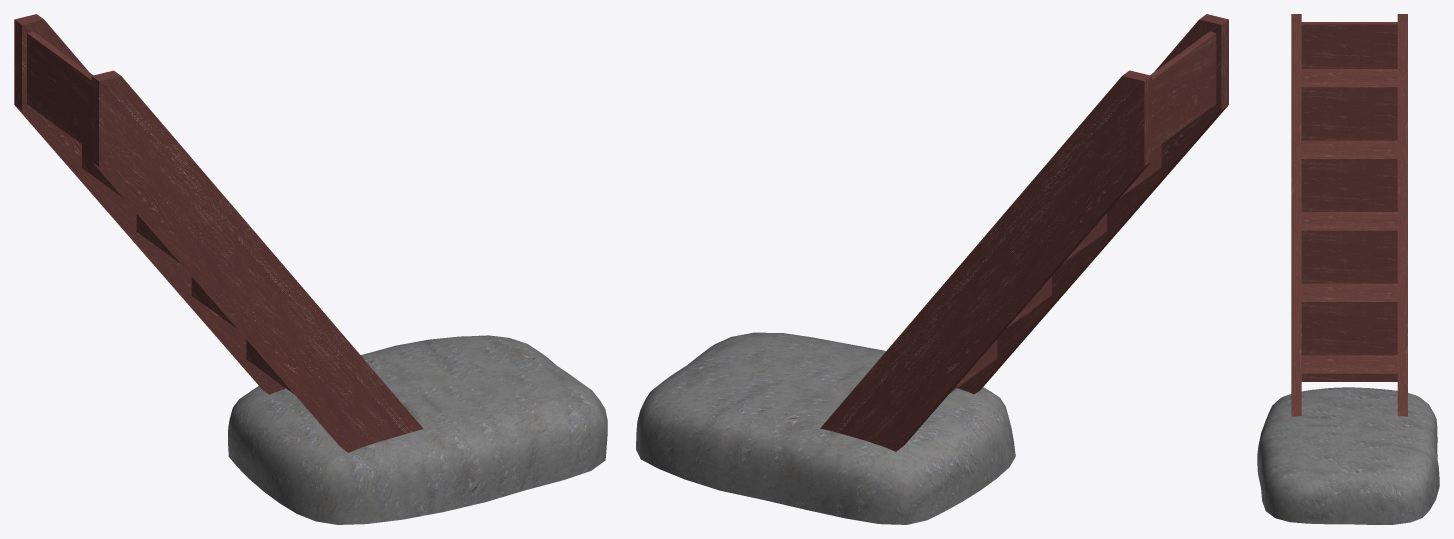
The model's file is SM_Song_Jong_Stair.fbx.
3 views of the same model, side by side, from view 1: azimuth 30°, elevation 25°; view 2: azimuth 150°, elevation 25°; view 3: azimuth 270°, elevation 25° (orthographic). The views are drawn at different scales.
Parts seen in each view (by area): view 1: SM_Song_Jong_Stair; view 2: SM_Song_Jong_Stair; view 3: SM_Song_Jong_Stair.
Boxes of the visible parts, x1,y1,x2,y2 form: SM_Song_Jong_Stair: (14, 14, 607, 524); SM_Song_Jong_Stair: (636, 14, 1228, 524); SM_Song_Jong_Stair: (1257, 14, 1439, 524).
Size of the model in its own units: 197 by 180 by 87.82.
